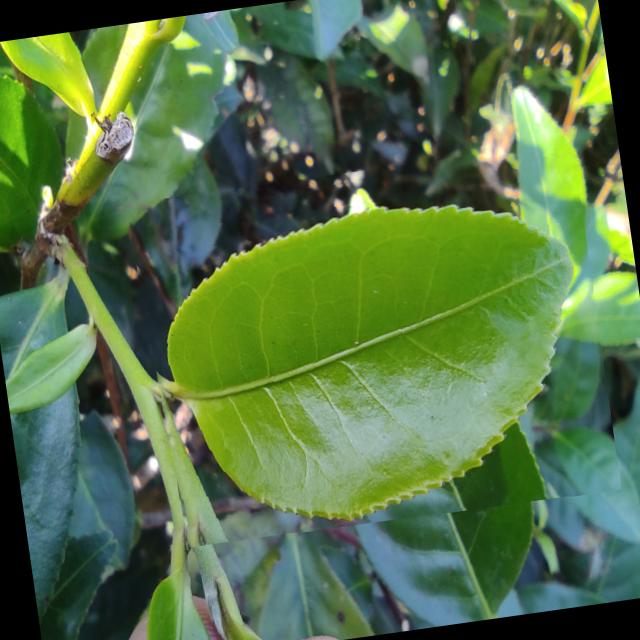Category C(4-7 days): (125, 142, 622, 552)
